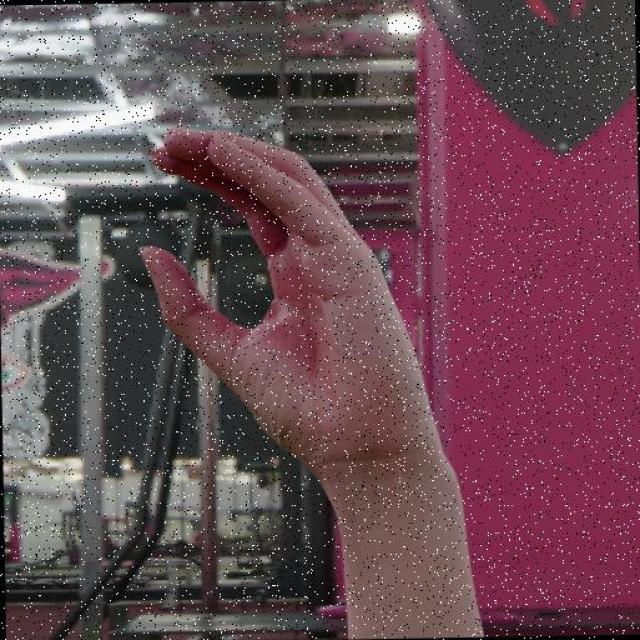C: (134, 116, 442, 499)
